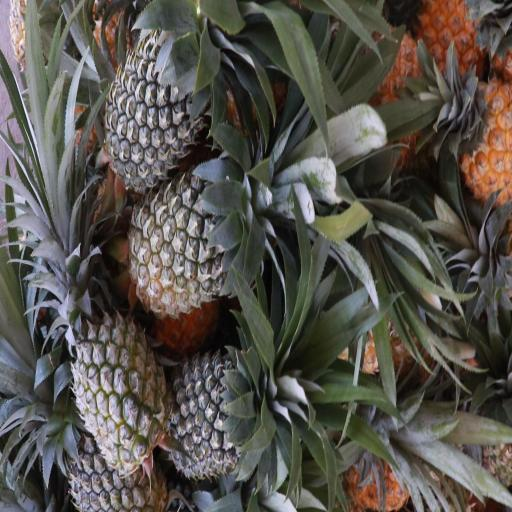------------------------------: (134, 170, 256, 303), (74, 307, 163, 459)
Pineapple - v8 v1: (444, 71, 512, 197), (421, 0, 489, 97)
